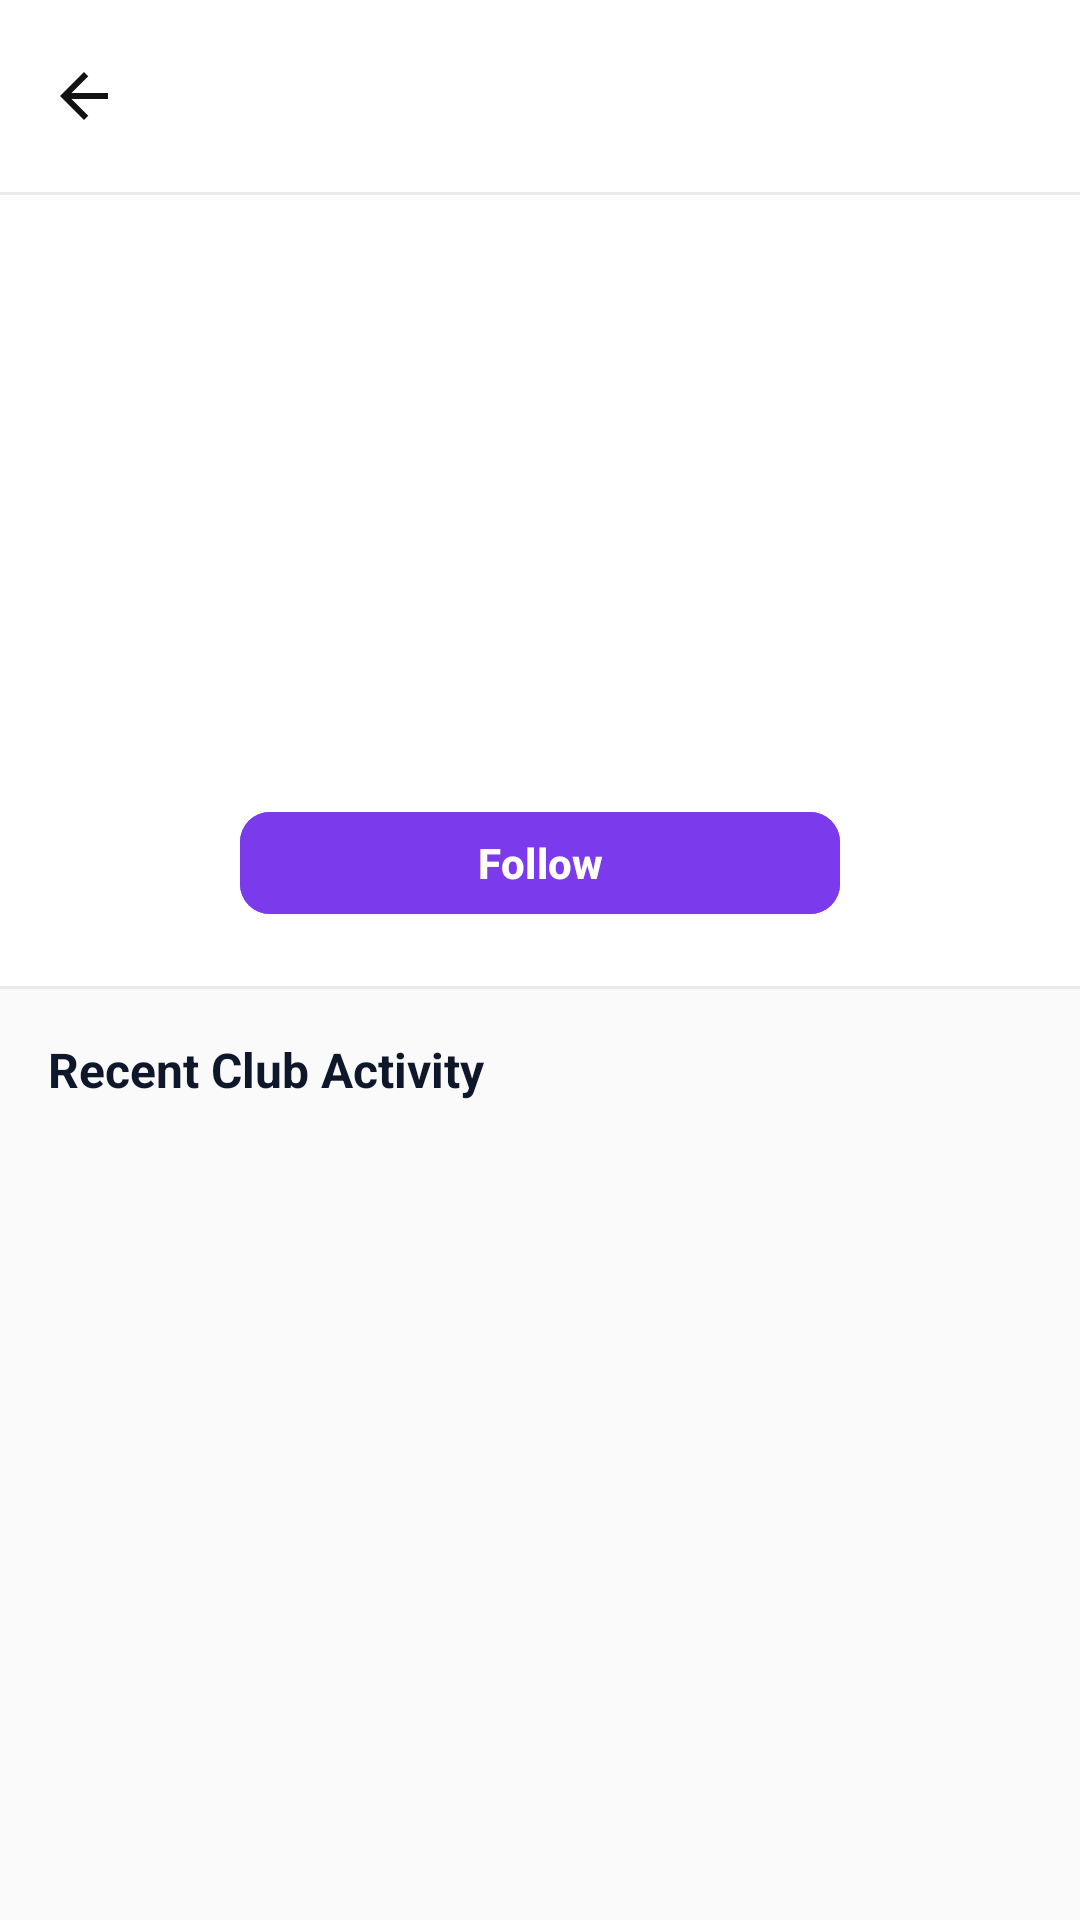

Locate icon controls on the screen. Image size 1080px x 1920px, boxes as detection(x1, y1, x2, y2).
Go Back: detection(60, 72, 108, 120)
